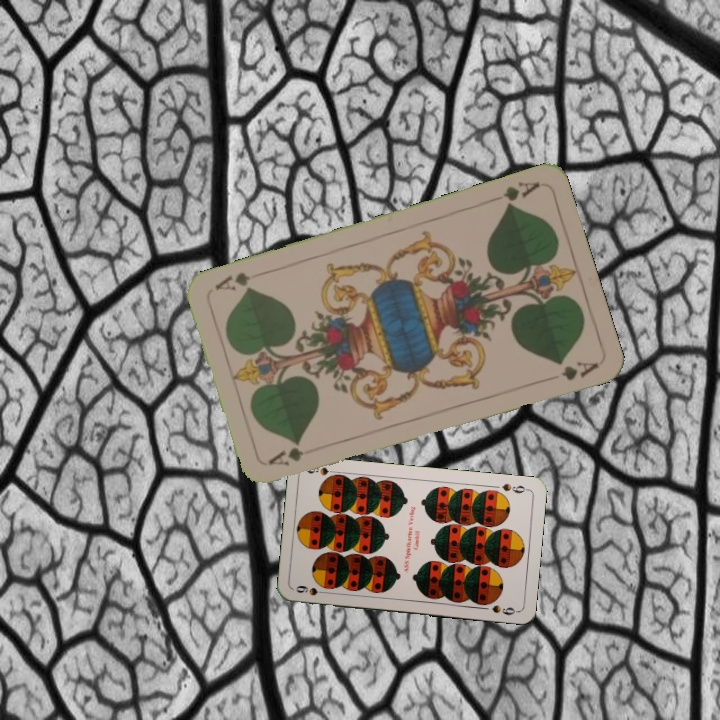GA: (263, 443, 322, 469), (498, 177, 543, 211)
S9: (292, 581, 332, 598), (498, 479, 531, 496)
